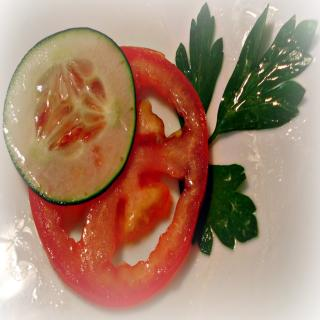tomato: (22, 46, 207, 296)
